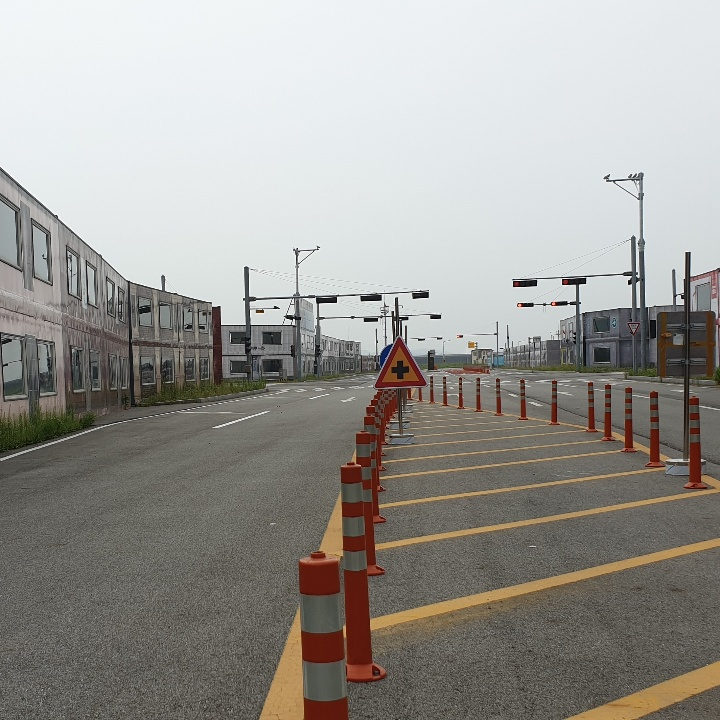inter: (387, 357, 413, 385)
